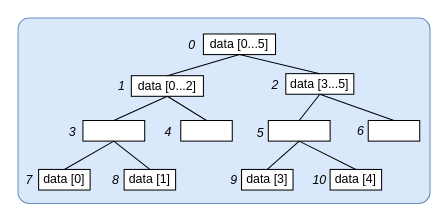
Some shapes in this 448 by 221 pixel diagram are drawn without their labels. Here are the shapes that lost their labels. From the top down, the box of each, then its label:
(82, 119, 145, 141): data [0,1]
(180, 119, 232, 141): data [2]
(267, 119, 330, 141): data [3,4]
(367, 119, 420, 141): data [5]
